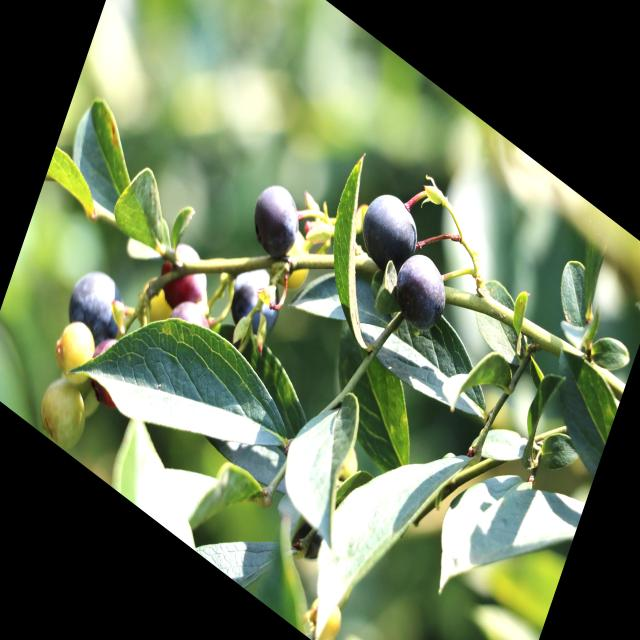blueberry: (57, 251, 137, 367), (350, 170, 426, 282), (217, 245, 292, 355), (384, 236, 458, 344), (242, 168, 312, 270)
blueberry-halfripe: (153, 230, 216, 322), (166, 291, 214, 353)
blueberry-unripe: (33, 370, 92, 456), (49, 309, 104, 395)
